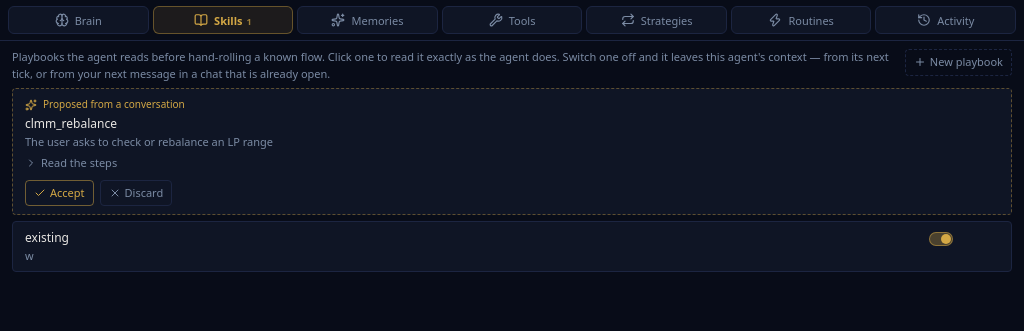
Test: the proposed playbook › shows its steps on demand
Click the button "Read the steps" at coordinates (71, 163), box 25,155 -> 117,172
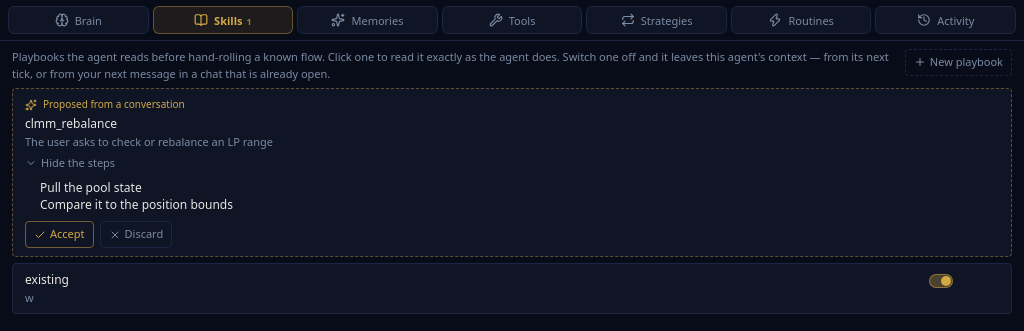
Result: the text "Pull the pool state" is shown at 40,179 -> 142,196
